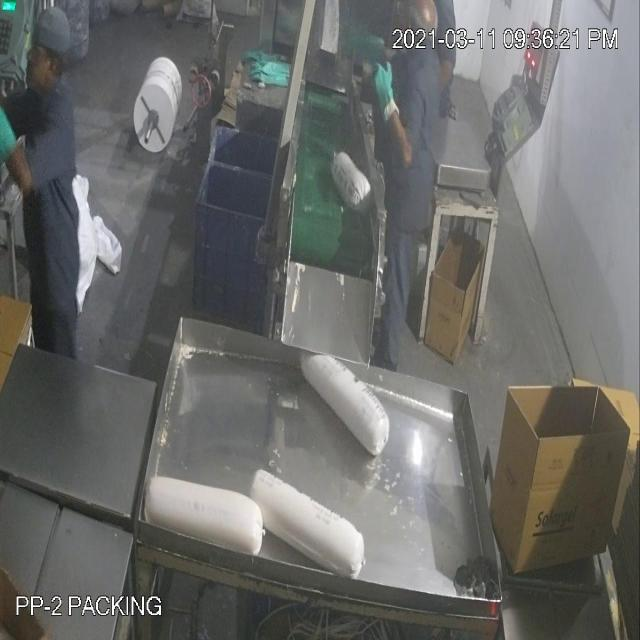gloves: (365, 54, 399, 119)
